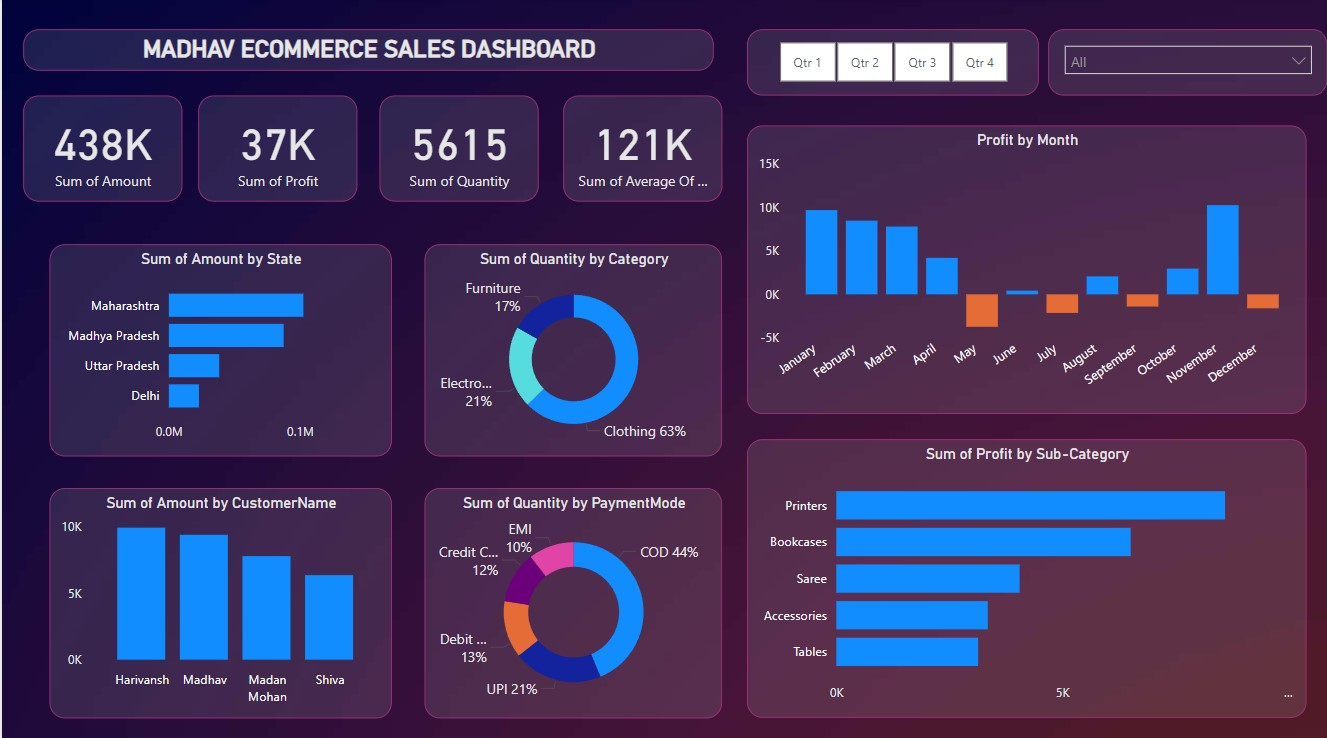

Layout of this report page (visuals, bound fields, positions):
{"tool":"powerbi","page":{"name":"Page 1","canvas":[1280,720],"ordinal":0},"visuals":[{"type":"textbox","title":"MADHAV ECOMMERCE SALES DASHBOARD","box":[20,30,666.2,40],"z":0},{"type":"columnChart","title":"Profit by Month","fields":{"Category":["Orders.Order Date.Variation.Date Hierarchy.Month"],"Y":["Details.Profit"]},"box":[718.8,122.5,540,278.8],"z":1000},{"type":"barChart","fields":{"Category":["Details.Sub-Category"],"Y":["Details.Profit"]},"box":[718.8,426.2,540,268.8],"z":2000},{"type":"donutChart","fields":{"Category":["Details.Category"],"Y":["Details.Quantity"]},"box":[407.5,237.5,287.5,205],"z":3000},{"type":"donutChart","fields":{"Y":["Details.Quantity"],"Category":["Details.PaymentMode"]},"box":[407.5,472.5,287.5,222.5],"z":4000},{"type":"card","fields":{"Values":["Details.Amount"]},"box":[20,93.8,153.8,102.5],"z":5000},{"type":"card","fields":{"Values":["Details.Profit"]},"box":[190,93.8,153.8,102.5],"z":6000},{"type":"card","fields":{"Values":["Details.Quantity"]},"box":[363.8,93.8,153.8,102.5],"z":7000},{"type":"card","fields":{"Values":["Details.Average Of Value"]},"box":[541.2,93.8,153.8,102.5],"z":8000},{"type":"barChart","fields":{"Category":["Orders.State"],"Y":["Details.Amount"]},"box":[46.2,237.5,330,205],"z":9000},{"type":"columnChart","fields":{"Category":["Orders.CustomerName"],"Y":["Details.Amount"]},"box":[46.2,472.5,330,222.5],"z":10000},{"type":"slicer","fields":{"Values":["Orders.Order Date.Variation.Date Hierarchy.Quarter"]},"box":[718.8,30,281.2,63.8],"z":11000},{"type":"slicer","fields":{"Values":["Orders.State"]},"box":[1010,30,270,63.8],"z":12000}]}

Visuals, with their boxes in screenshot pixels (x1, y1, x2, y2), scaled from the page's 1280x720 canvas onto the 1327x738 screenshot:
"MADHAV ECOMMERCE SALES DASHBOARD" textbox: 21/31/711/72
"Profit by Month" columnChart: 745/126/1305/411
barChart - Details.Sub-Category x Details.Profit: 745/437/1305/712
donutChart - Details.Category x Details.Quantity: 422/243/721/454
donutChart - Details.Quantity x Details.PaymentMode: 422/484/721/712
card - Details.Amount: 21/96/180/201
card - Details.Profit: 197/96/356/201
card - Details.Quantity: 377/96/537/201
card - Details.Average Of Value: 561/96/721/201
barChart - Orders.State x Details.Amount: 48/243/390/454
columnChart - Orders.CustomerName x Details.Amount: 48/484/390/712
slicer - Orders.Order Date.Variation.Date Hierarchy.Quarter: 745/31/1037/96
slicer - Orders.State: 1047/31/1326/96
